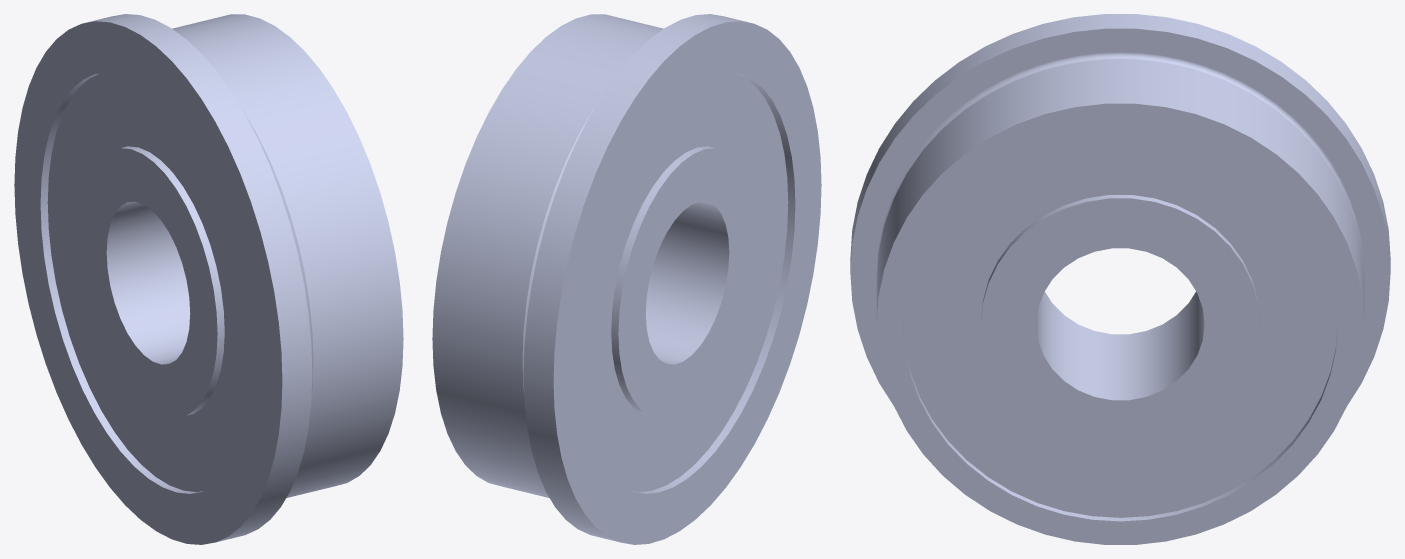
The model's file is Bearing.glb.
The picture shows the model from 3 angles, left to right: view 1: azimuth 30°, elevation 25°; view 2: azimuth 150°, elevation 25°; view 3: azimuth 270°, elevation 25°; orthographic projection.
Parts seen in each view (by area): view 1: 217-5830-001 High Strength Bearing; view 2: 217-5830-001 High Strength Bearing; view 3: 217-5830-001 High Strength Bearing.
Boxes of the visible parts, x1,y1,x2,y2 form: 217-5830-001 High Strength Bearing: [14, 14, 403, 544]; 217-5830-001 High Strength Bearing: [432, 14, 821, 544]; 217-5830-001 High Strength Bearing: [850, 14, 1390, 544].
Bounding box in the file's own units: 0.00711 × 0.0246 × 0.0246.
